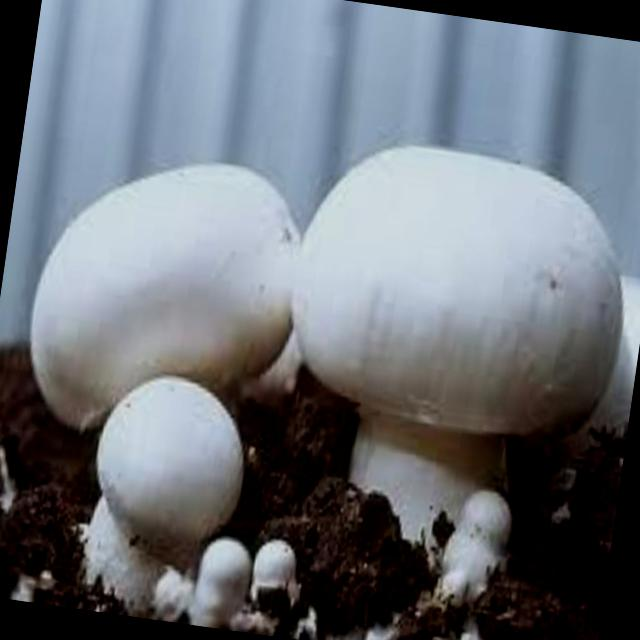Agaricus bisporus: (263, 130, 640, 568), (16, 144, 316, 457), (74, 367, 254, 612)
